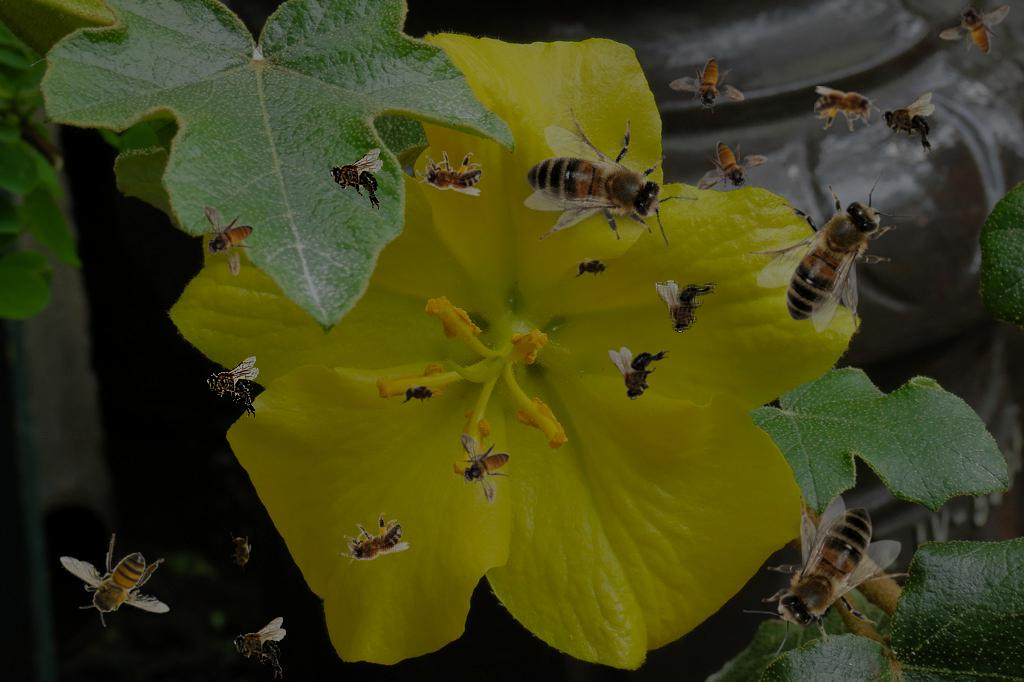Bee: (496, 75, 711, 293), (743, 495, 910, 657), (748, 171, 915, 333), (59, 533, 170, 627), (667, 45, 755, 126), (332, 506, 412, 577), (460, 433, 510, 504), (697, 141, 768, 191), (939, 4, 1010, 54), (204, 205, 254, 276), (330, 148, 383, 210), (206, 356, 259, 418), (608, 347, 670, 400), (655, 280, 717, 333), (233, 617, 286, 679), (882, 92, 935, 154), (814, 86, 880, 131), (416, 151, 482, 196), (572, 257, 612, 279), (230, 532, 252, 572), (399, 383, 439, 405)
